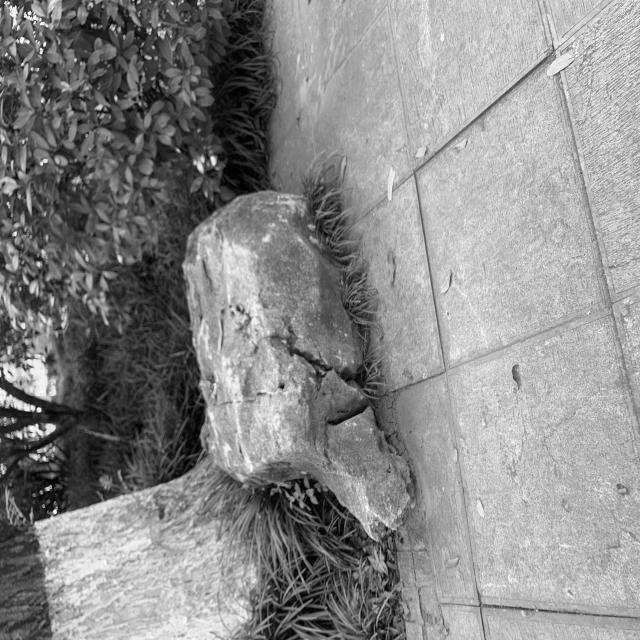Stone: (184, 191, 411, 538)
